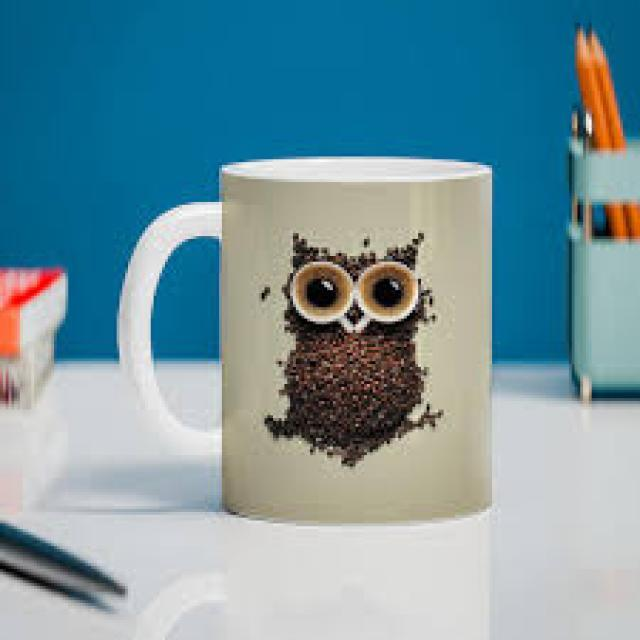taza: (117, 156, 495, 528)
